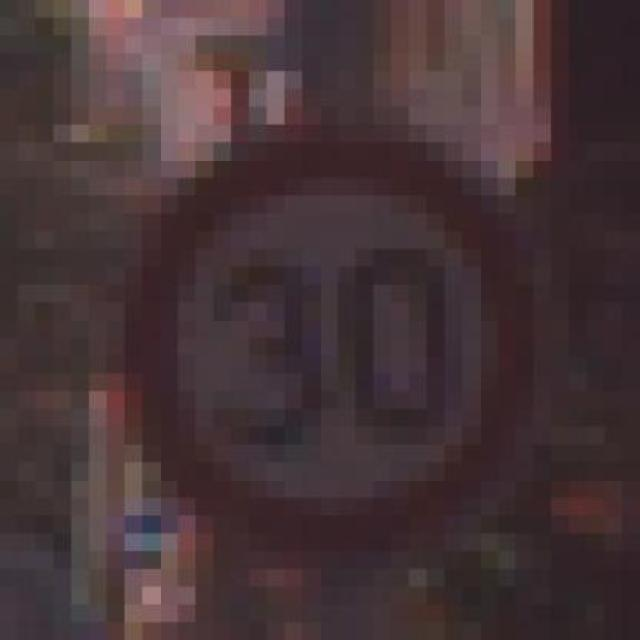Speed Limit 30 KMPh: (71, 89, 587, 569)
